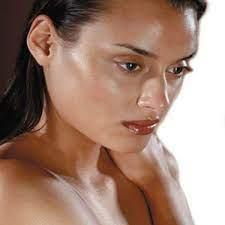Oily-Skin: (72, 52, 116, 113), (134, 20, 187, 49)
